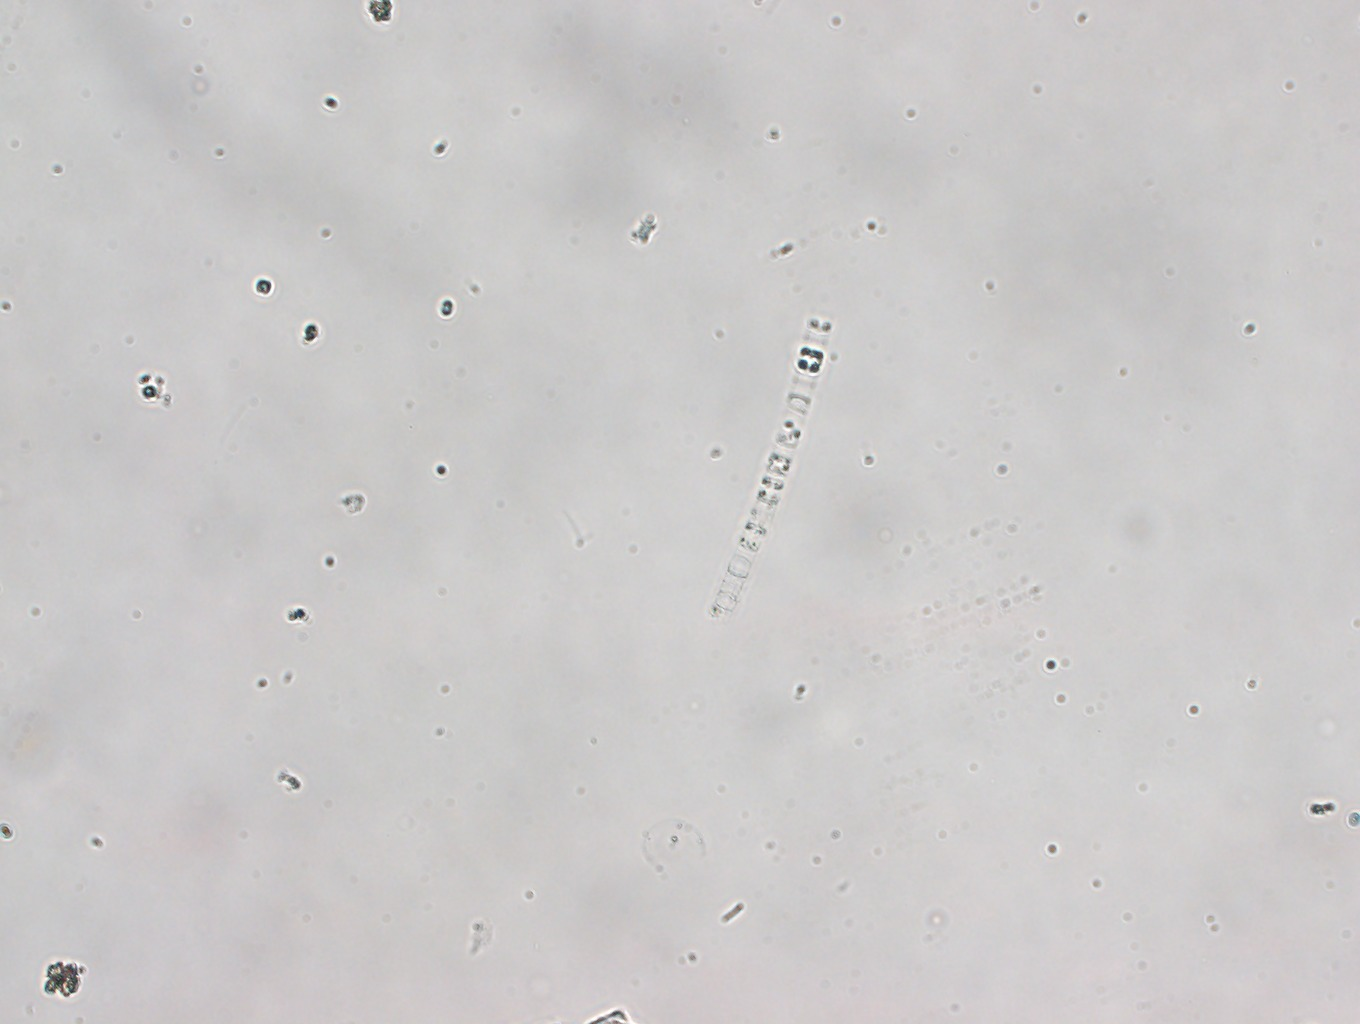skeletonema: (708, 313, 831, 620)
